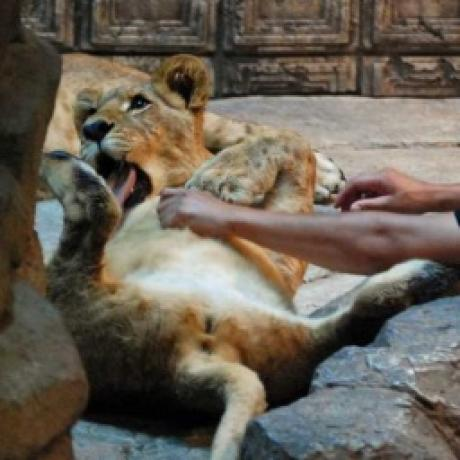Lion: (49, 51, 449, 460)
